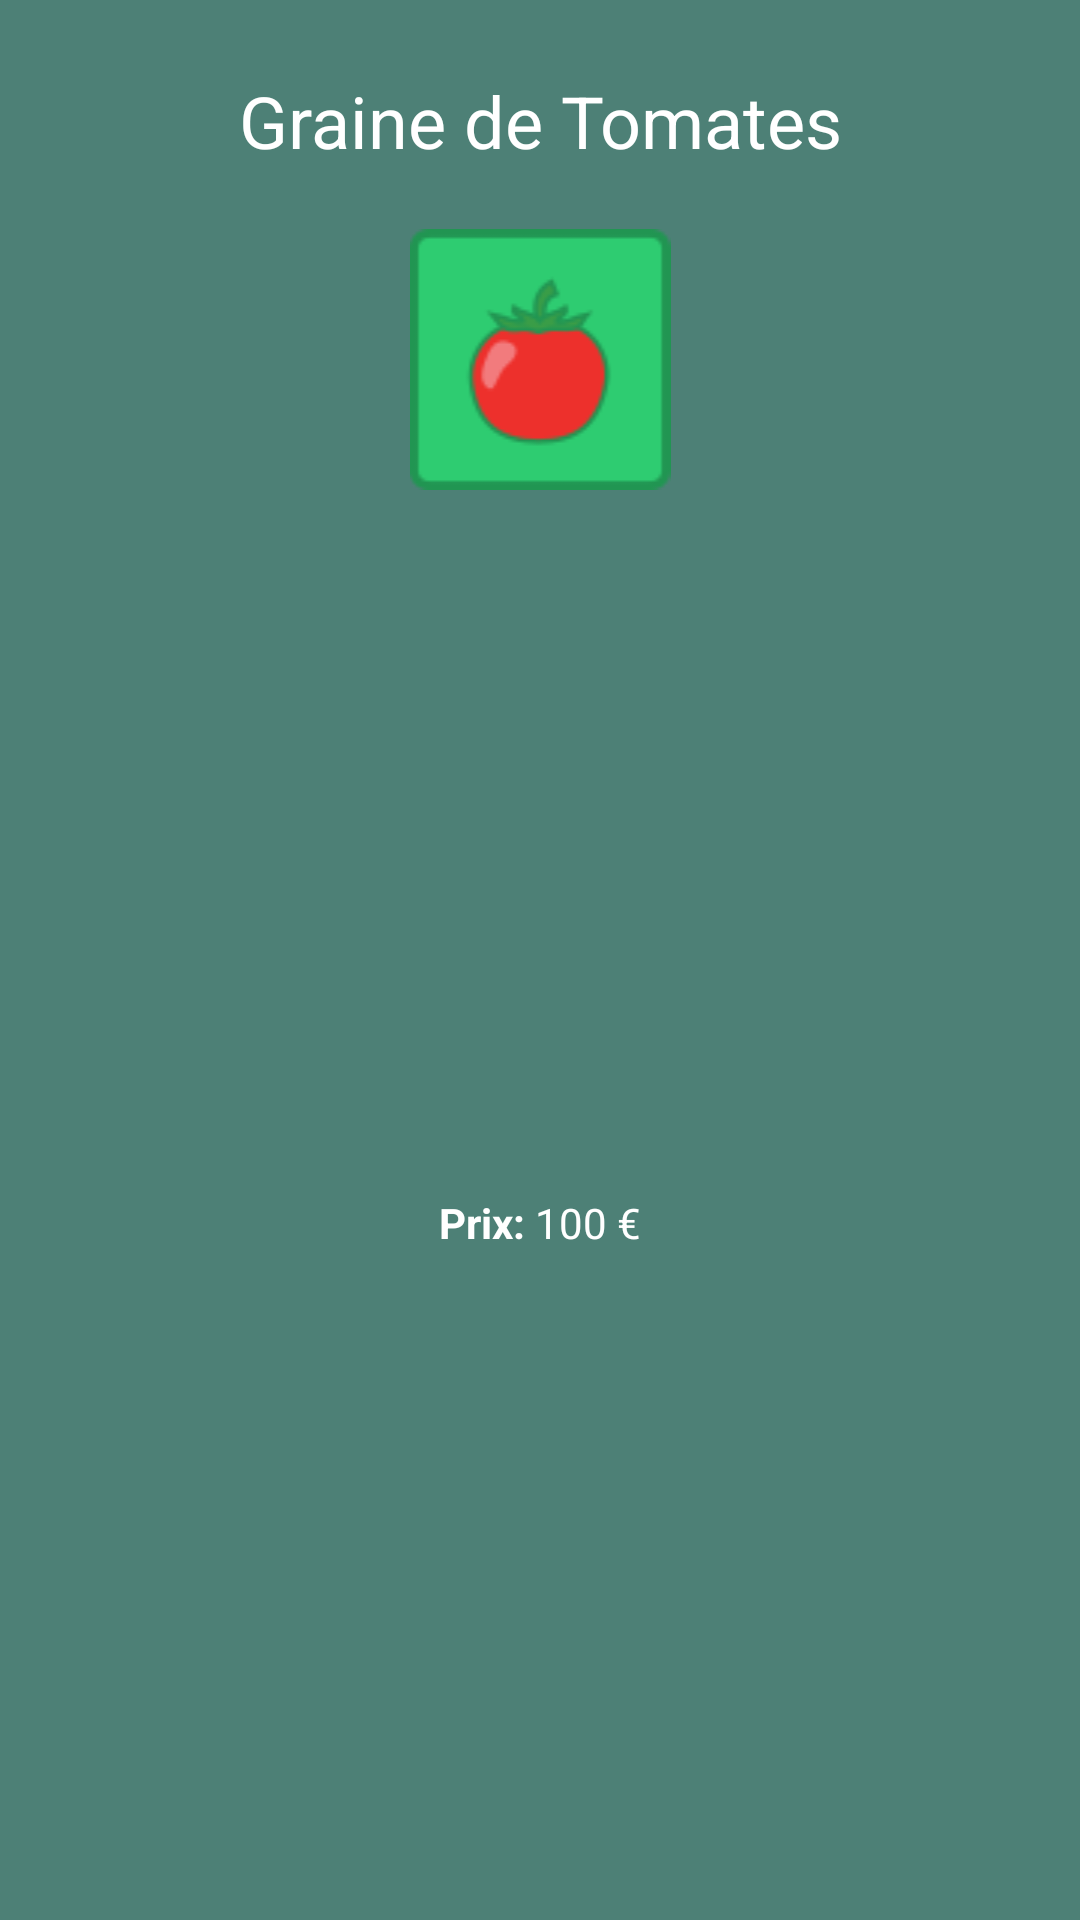

Icon click points for this 1080w x 1920h phone screenshot, format [x,y]:
plot tomato ripe: [540,359]
